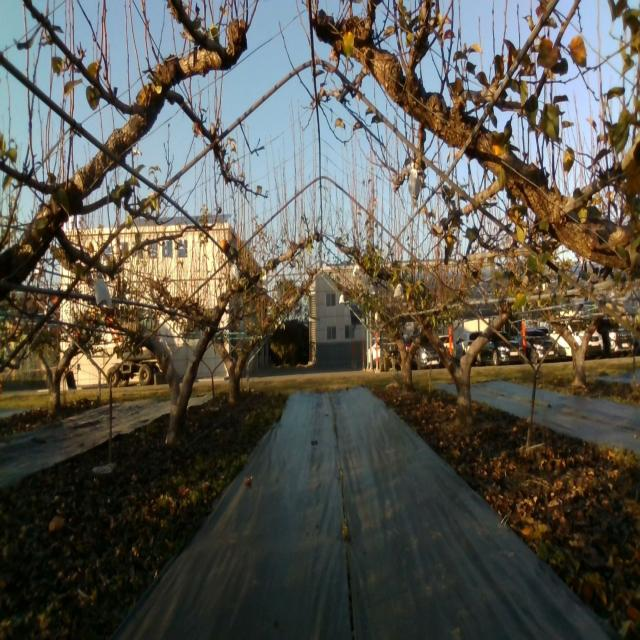pearbags: (94, 271, 112, 310), (408, 162, 421, 205), (230, 260, 240, 282)
